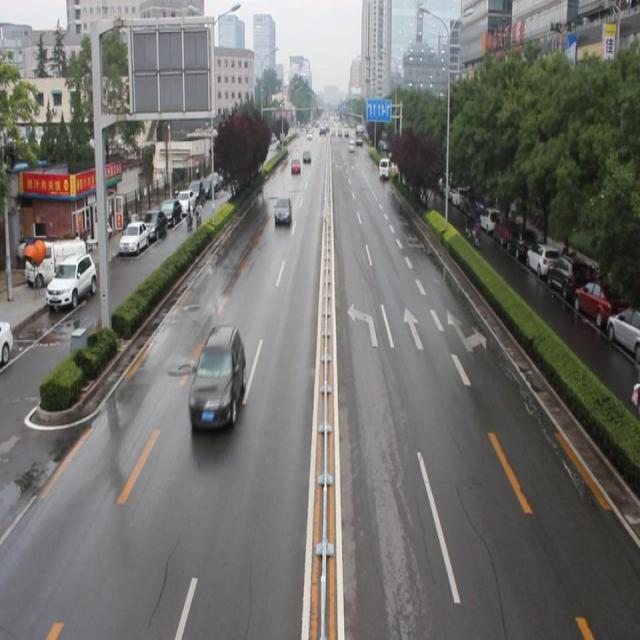car: (187, 328, 247, 427), (272, 196, 293, 224), (290, 156, 300, 173)
truck: (378, 156, 390, 179)
